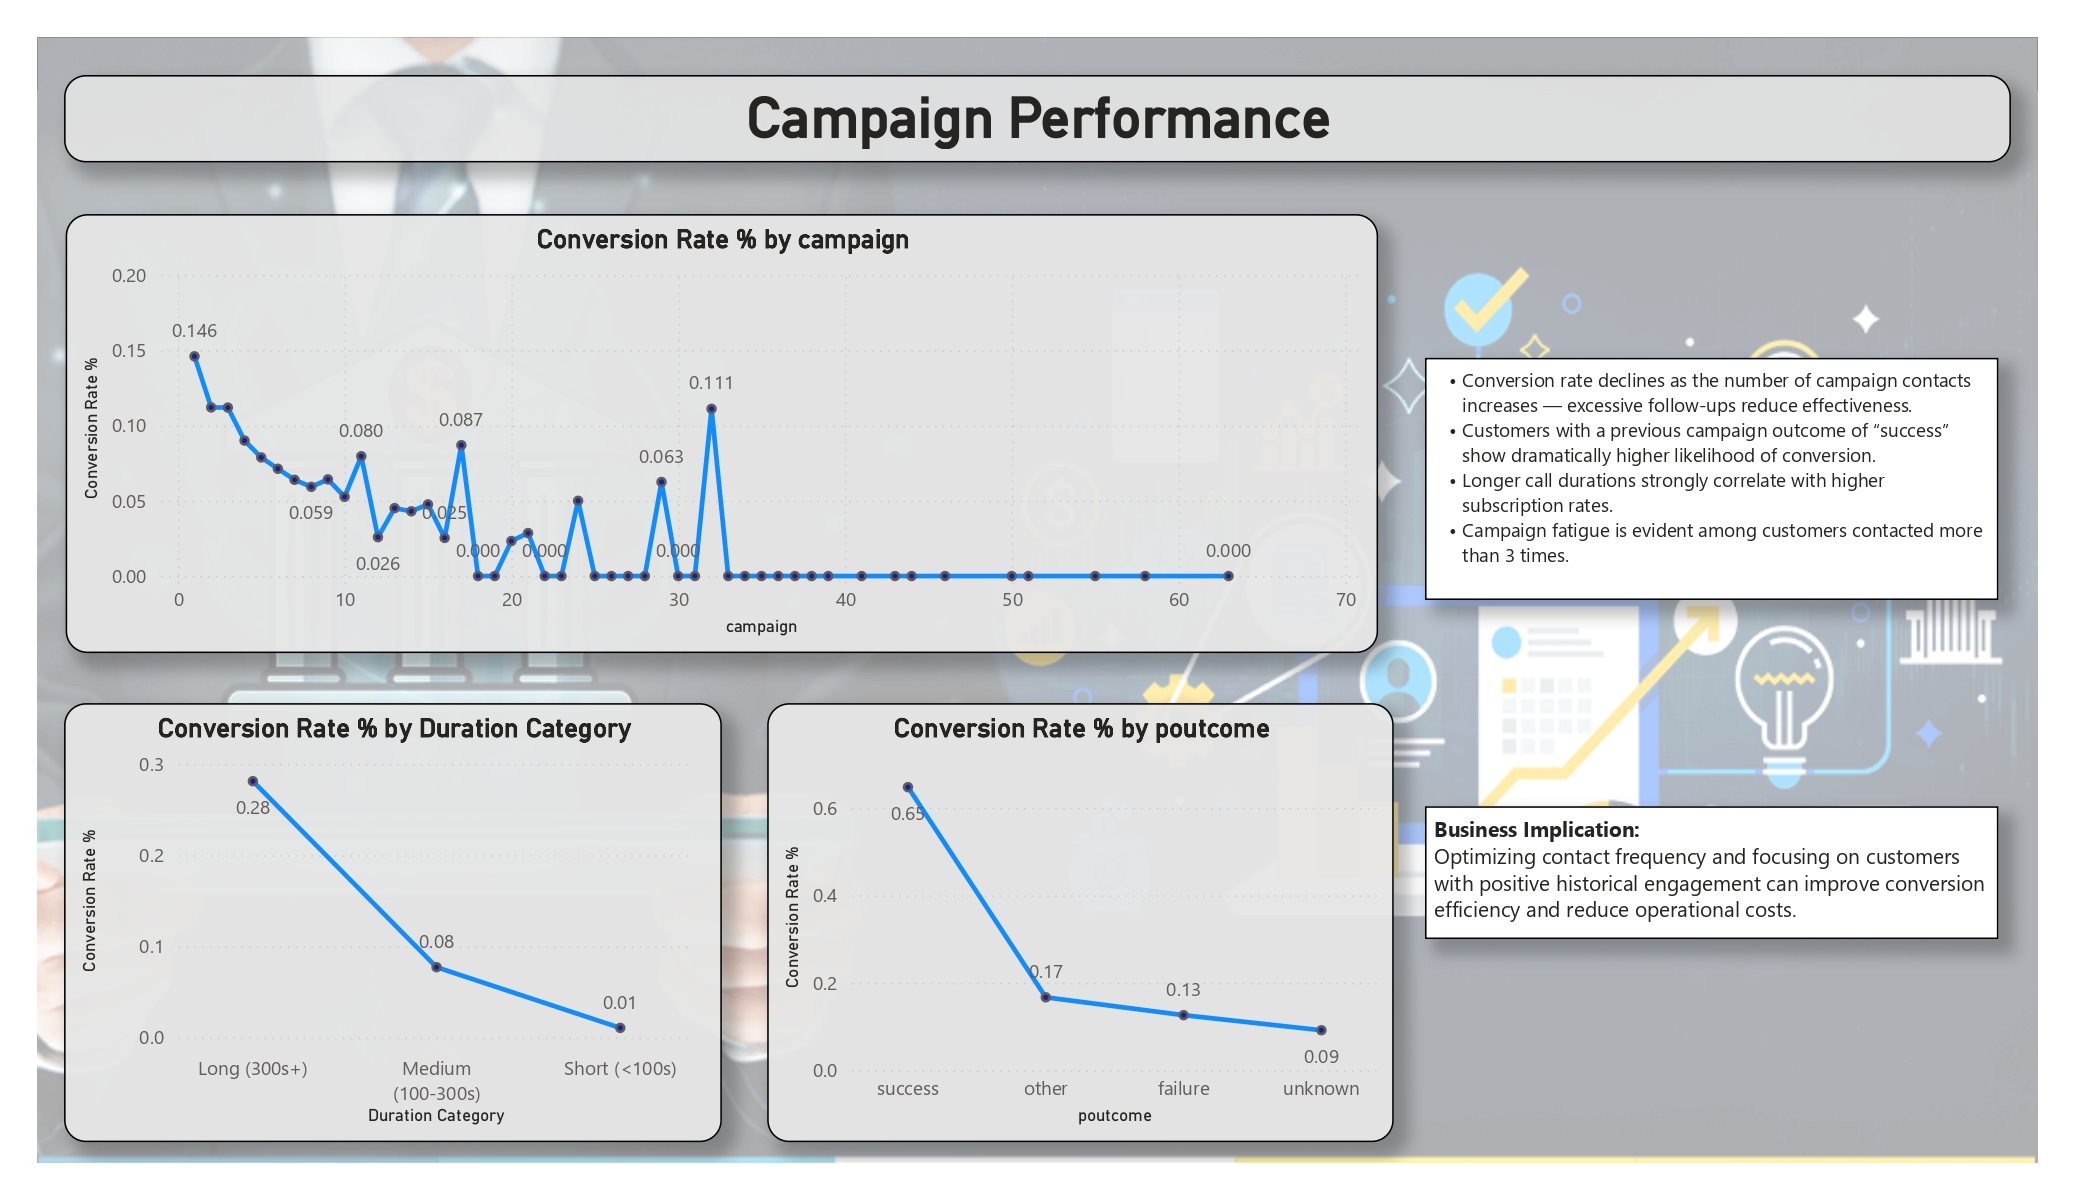

Layout of this report page (visuals, bound fields, positions):
{"tool":"powerbi","page":{"name":"Campaign Performance Dashboard","canvas":[1280,720],"ordinal":5},"visuals":[{"type":"textbox","title":"Campaign Performance","box":[17.1,24.2,1245.8,55.6],"z":0},{"type":"lineChart","fields":{"Category":["bank-full.campaign"],"Y":["bank-full.Conversion Rate %"]},"box":[18.3,112.5,840.1,281.3],"z":1},{"type":"lineChart","fields":{"Category":["bank-full.Duration Category"],"Y":["bank-full.Conversion Rate %"]},"box":[17.1,425.5,420.7,281.3],"z":2},{"type":"lineChart","fields":{"Category":["bank-full.poutcome"],"Y":["bank-full.Conversion Rate %"]},"box":[467.1,425.5,401.1,281.3],"z":3},{"type":"textbox","box":[887.8,205.4,366.8,154.1],"z":4},{"type":"textbox","box":[887.8,491.6,366.8,85.6],"z":5}]}

Visuals, with their boxes in screenshot pixels (x1, y1, x2, y2):
"Campaign Performance" textbox: 70,75,1991,161
lineChart - bank-full.campaign x bank-full.Conversion Rate %: 71,211,1367,645
lineChart - bank-full.Duration Category x bank-full.Conversion Rate %: 70,694,718,1128
lineChart - bank-full.poutcome x bank-full.Conversion Rate %: 764,694,1382,1128
textbox: 1412,355,1978,592
textbox: 1412,796,1978,928
